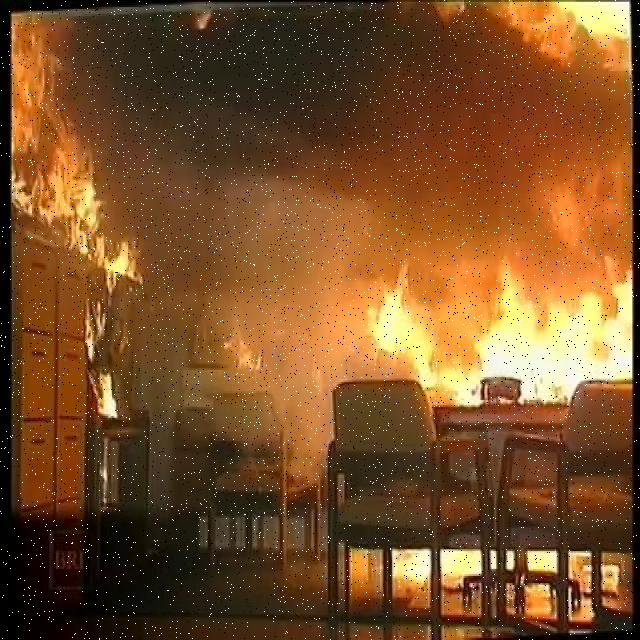fire: (373, 263, 640, 404), (9, 19, 148, 287), (479, 2, 640, 65), (82, 318, 126, 433)
